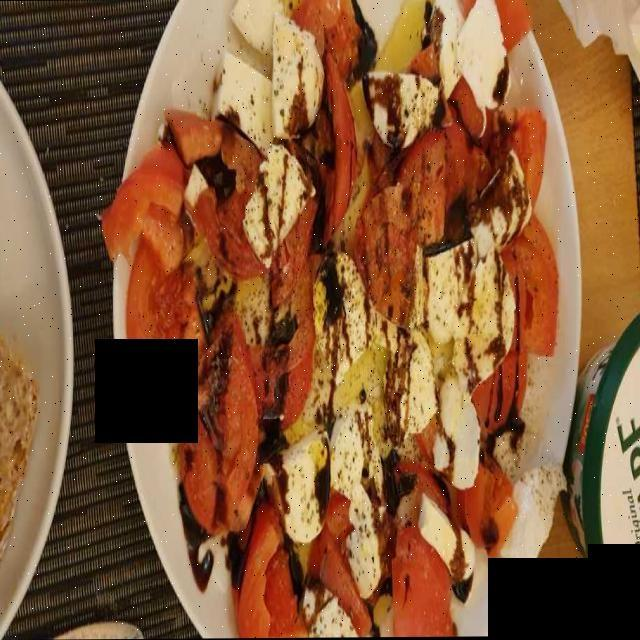salad: (111, 17, 552, 624)
